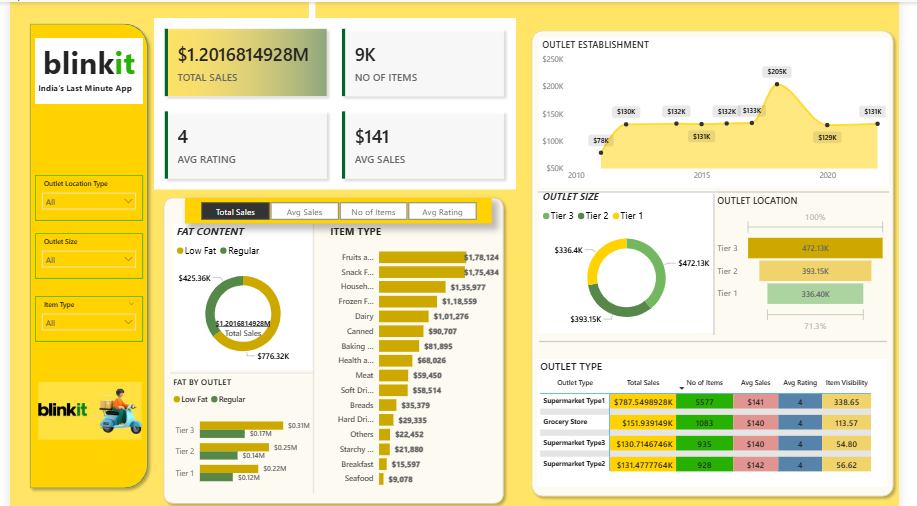

The dashboard page shown, as its layout file describes it:
{"tool":"powerbi","page":{"name":"Page 1","canvas":[1400,800],"ordinal":0},"visuals":[{"type":"shape","box":[22,25.7,203.9,749.6],"z":0},{"type":"textbox","box":[470.3,0,7.3,112.1],"z":3},{"type":"cardVisual","fields":{"Data":["BlinkIT Grocery Data.Total Sales","BlinkIT Grocery Data.No of Items","BlinkIT Grocery Data.Avg Rating","BlinkIT Grocery Data.Avg Sales"]},"box":[226,25.7,569.6,270.1],"z":7},{"type":"shape","box":[233.3,299.5,553,499.7],"z":8},{"type":"donutChart","title":"FAT CONTENT","fields":{"Category":["BlinkIT Grocery Data.Item Fat Content"],"Y":["BlinkIT Grocery Data.Total Sales"]},"box":[256.7,349.6,220.5,229.9],"z":9},{"type":"cardVisual","fields":{"Data":["BlinkIT Grocery Data.Total Sales"]},"box":[301.3,464.8,132.3,97.4],"z":10},{"type":"clusteredBarChart","title":"FAT BY OUTLET","fields":{"Category":["BlinkIT Grocery Data.Outlet Location Type"],"Y":["BlinkIT Grocery Data.Total Sales"],"Series":["BlinkIT Grocery Data.Item Fat Content"]},"box":[252,589,225.2,185.8],"z":11},{"type":"shape","box":[252,579.5,226.8,9.4],"z":12},{"type":"shape","box":[437.8,349.6,80.3,425.2],"z":13},{"type":"barChart","title":"ITEM TYPE","fields":{"Category":["BlinkIT Grocery Data.Item Type"],"Y":["BlinkIT Grocery Data.Total Sales"]},"box":[499.2,349.6,275.6,425.2],"z":14},{"type":"shape","box":[812.6,36.2,587.4,751.2],"z":16},{"type":"lineChart","title":"OUTLET ESTABLISHMENT","fields":{"Y":["BlinkIT Grocery Data.Total Sales"],"Category":["BlinkIT Grocery Data.Outlet Establishment Year"]},"box":[833.1,56.7,551.2,234.6],"z":17},{"type":"donutChart","title":"OUTLET SIZE","fields":{"Y":["BlinkIT Grocery Data.Total Sales"],"Category":["BlinkIT Grocery Data.Outlet Location Type"]},"box":[833.1,296.1,275.6,225.2],"z":18},{"type":"shape","box":[831.5,263,552.8,72.4],"z":19},{"type":"shape","box":[1042.5,302.4,132.3,222],"z":20},{"type":"funnel","title":"OUTLET LOCATION","fields":{"Category":["BlinkIT Grocery Data.Outlet Location Type"],"Y":["Sum(BlinkIT Grocery Data.Sales)"]},"box":[1108.7,302.4,275.6,222],"z":21},{"type":"slicer","fields":{"Values":["Metrics.Metrics"]},"box":[275.6,308.7,483.2,40.4],"z":24},{"type":"pivotTable","title":"OUTLET TYPE","fields":{"Values":["BlinkIT Grocery Data.Total Sales","BlinkIT Grocery Data.No of Items","BlinkIT Grocery Data.Avg Sales","BlinkIT Grocery Data.Avg Rating","Sum(BlinkIT Grocery Data.Item Visibility)"],"Rows":["BlinkIT Grocery Data.Outlet Type"]},"box":[830.4,562.2,551.2,202.1],"z":25},{"type":"shape","box":[833.1,519.7,548,29.9],"z":26},{"type":"slicer","fields":{"Values":["BlinkIT Grocery Data.Outlet Location Type"]},"box":[39.4,272.4,170.1,72.4],"z":27},{"type":"slicer","fields":{"Values":["BlinkIT Grocery Data.Outlet Size"]},"box":[39.4,363.8,170.1,72.4],"z":28},{"type":"slicer","fields":{"Values":["BlinkIT Grocery Data.Item Type"]},"box":[39.4,463,170.1,72.4],"z":29},{"type":"textbox","box":[39.4,56.7,170.1,103.9],"z":30},{"type":"image","box":[39.4,499.2,173.2,288.2],"z":31}]}

Visuals, with their boxes on the page's 1400x800 design canvas (x1, y1, x2, y2). These are canvas units, not pixel positions in the 917x506 screenshot, which may show the page scaled, cropped or inside an application window:
shape: <box>22,26,226,775</box>
textbox: <box>470,0,478,112</box>
cardVisual - BlinkIT Grocery Data.Total Sales x BlinkIT Grocery Data.No of Items: <box>226,26,796,296</box>
shape: <box>233,300,786,799</box>
"FAT CONTENT" donutChart: <box>257,350,477,580</box>
cardVisual - BlinkIT Grocery Data.Total Sales: <box>301,465,434,562</box>
"FAT BY OUTLET" clusteredBarChart: <box>252,589,477,775</box>
shape: <box>252,580,479,589</box>
shape: <box>438,350,518,775</box>
"ITEM TYPE" barChart: <box>499,350,775,775</box>
shape: <box>813,36,1400,787</box>
"OUTLET ESTABLISHMENT" lineChart: <box>833,57,1384,291</box>
"OUTLET SIZE" donutChart: <box>833,296,1109,521</box>
shape: <box>832,263,1384,335</box>
shape: <box>1042,302,1175,524</box>
"OUTLET LOCATION" funnel: <box>1109,302,1384,524</box>
slicer - Metrics.Metrics: <box>276,309,759,349</box>
"OUTLET TYPE" pivotTable: <box>830,562,1382,764</box>
shape: <box>833,520,1381,550</box>
slicer - BlinkIT Grocery Data.Outlet Location Type: <box>39,272,210,345</box>
slicer - BlinkIT Grocery Data.Outlet Size: <box>39,364,210,436</box>
slicer - BlinkIT Grocery Data.Item Type: <box>39,463,210,535</box>
textbox: <box>39,57,210,161</box>
image: <box>39,499,213,787</box>
